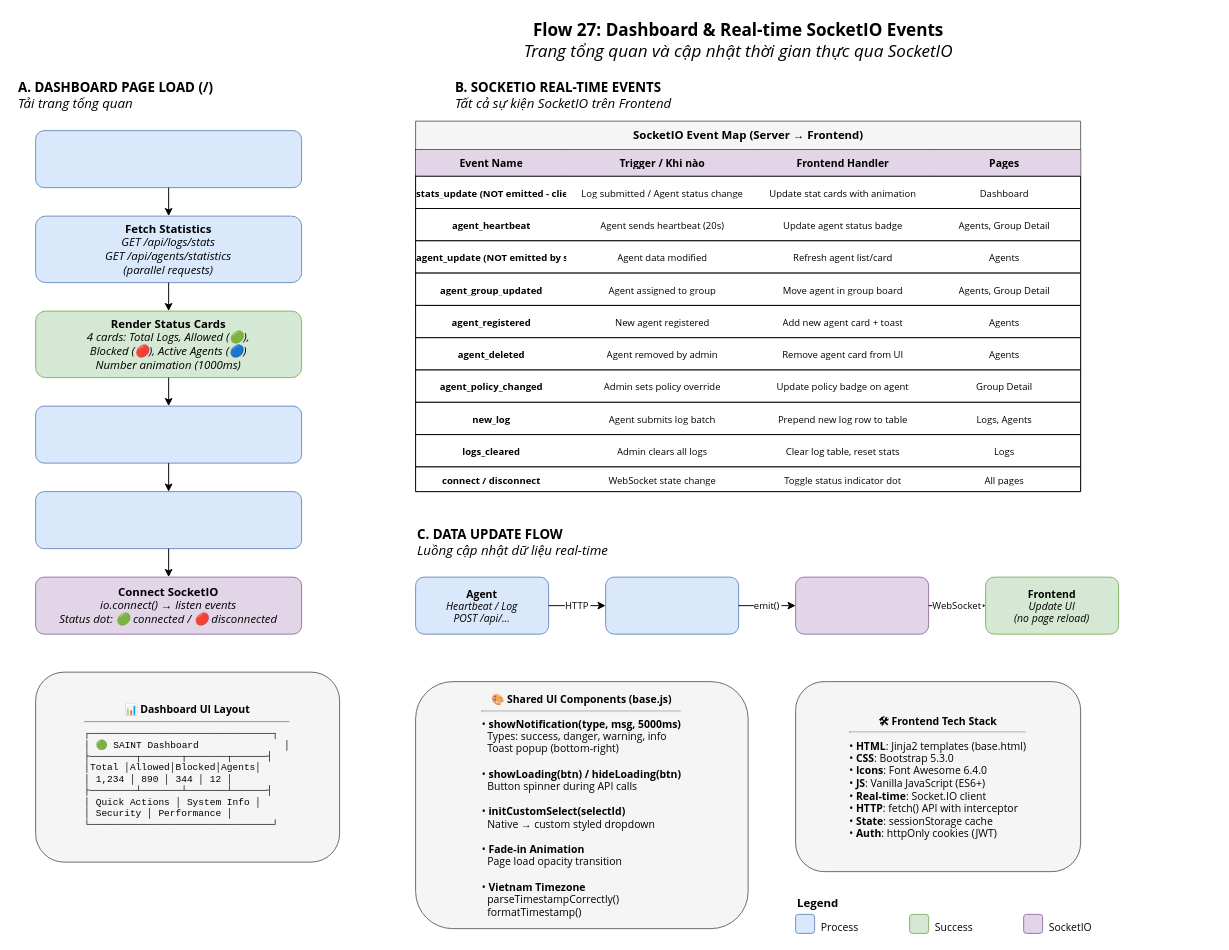
Some shapes in this 1229 by 950 pixel diagram are drawn without their labels. The shapes that lost their labels are listed below. From the top down, each one's centre as x and y in pixels, then its label:
At point 168,159: "Dashboard Page Loaded Route: / (home) auth.js verify session".
At point 168,434: "Render Feature Cards Quick Actions, System Info, Security Status, Performance".
At point 168,520: "Start Polling Timer setInterval(fetchStats, 10s) Auto-refresh page every 30s".
At point 672,605: "Server Process & Save to MongoDB".
At point 862,605: "SocketIO emit() Broadcast event to all clients".
